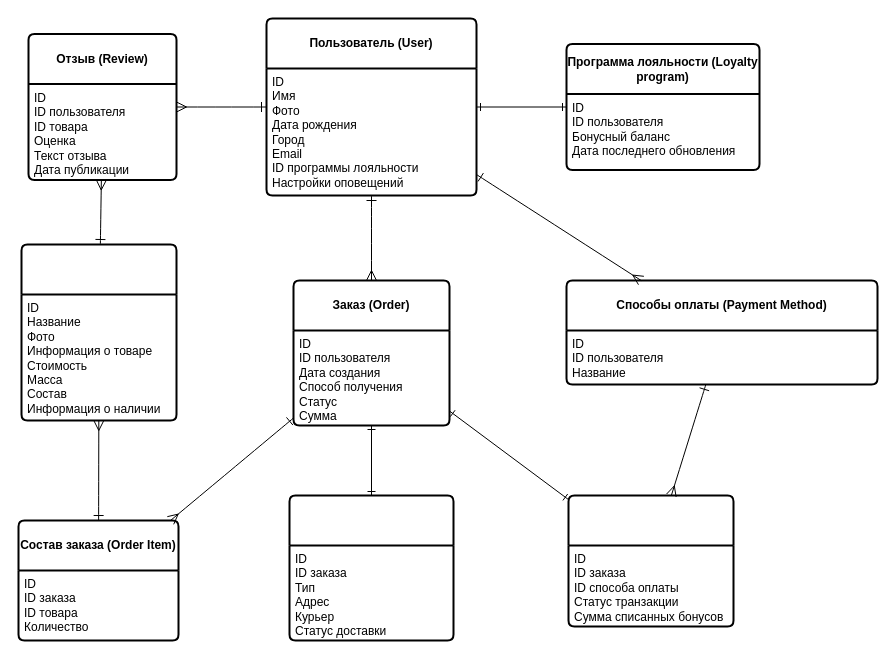
Some shapes in this 895 by 658 pixel diagram are drawn without their labels. Here are the shapes that lost their labels. From the top down, the box of each, then its label:
(20, 243, 177, 421): Товар (Product)
(288, 494, 454, 641): Доставка (Delivery)
(567, 494, 734, 627): Оплата (Payment)
